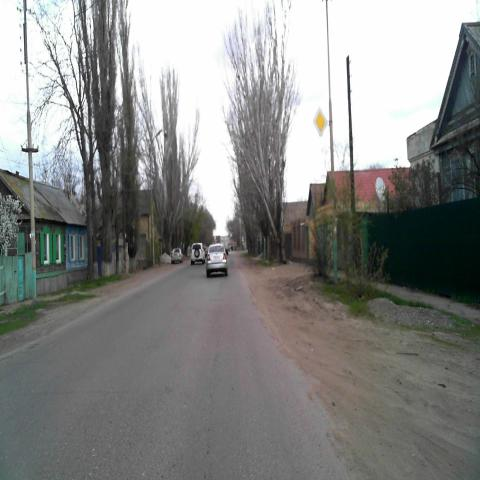2_1: (312, 107, 328, 137)
